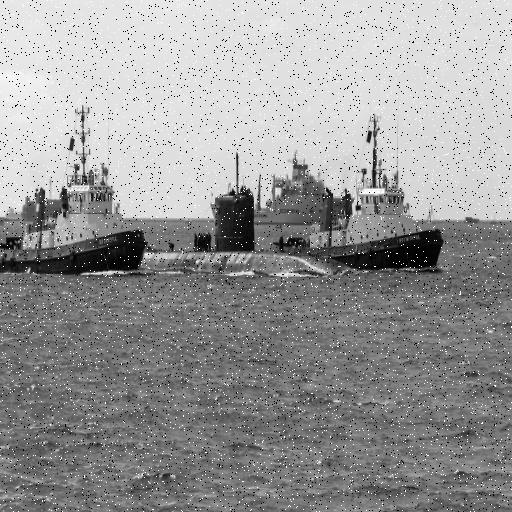submarine: (134, 197, 360, 273)
